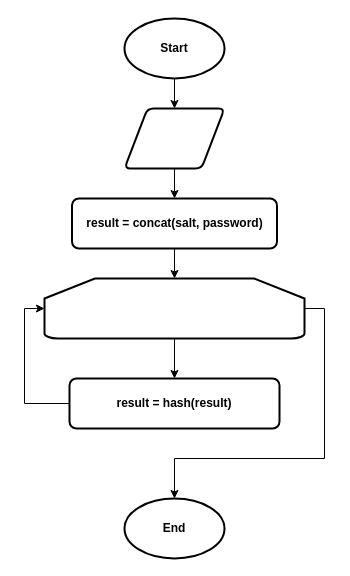
Image size: 350x576. Some labels were removed from this diagram. Here are the shapes that lost their labels. From the top down, the box of each, then its label:
(123, 107, 225, 169): password salt N
(43, 277, 305, 339): for (int i = 0; i < N; i++)
